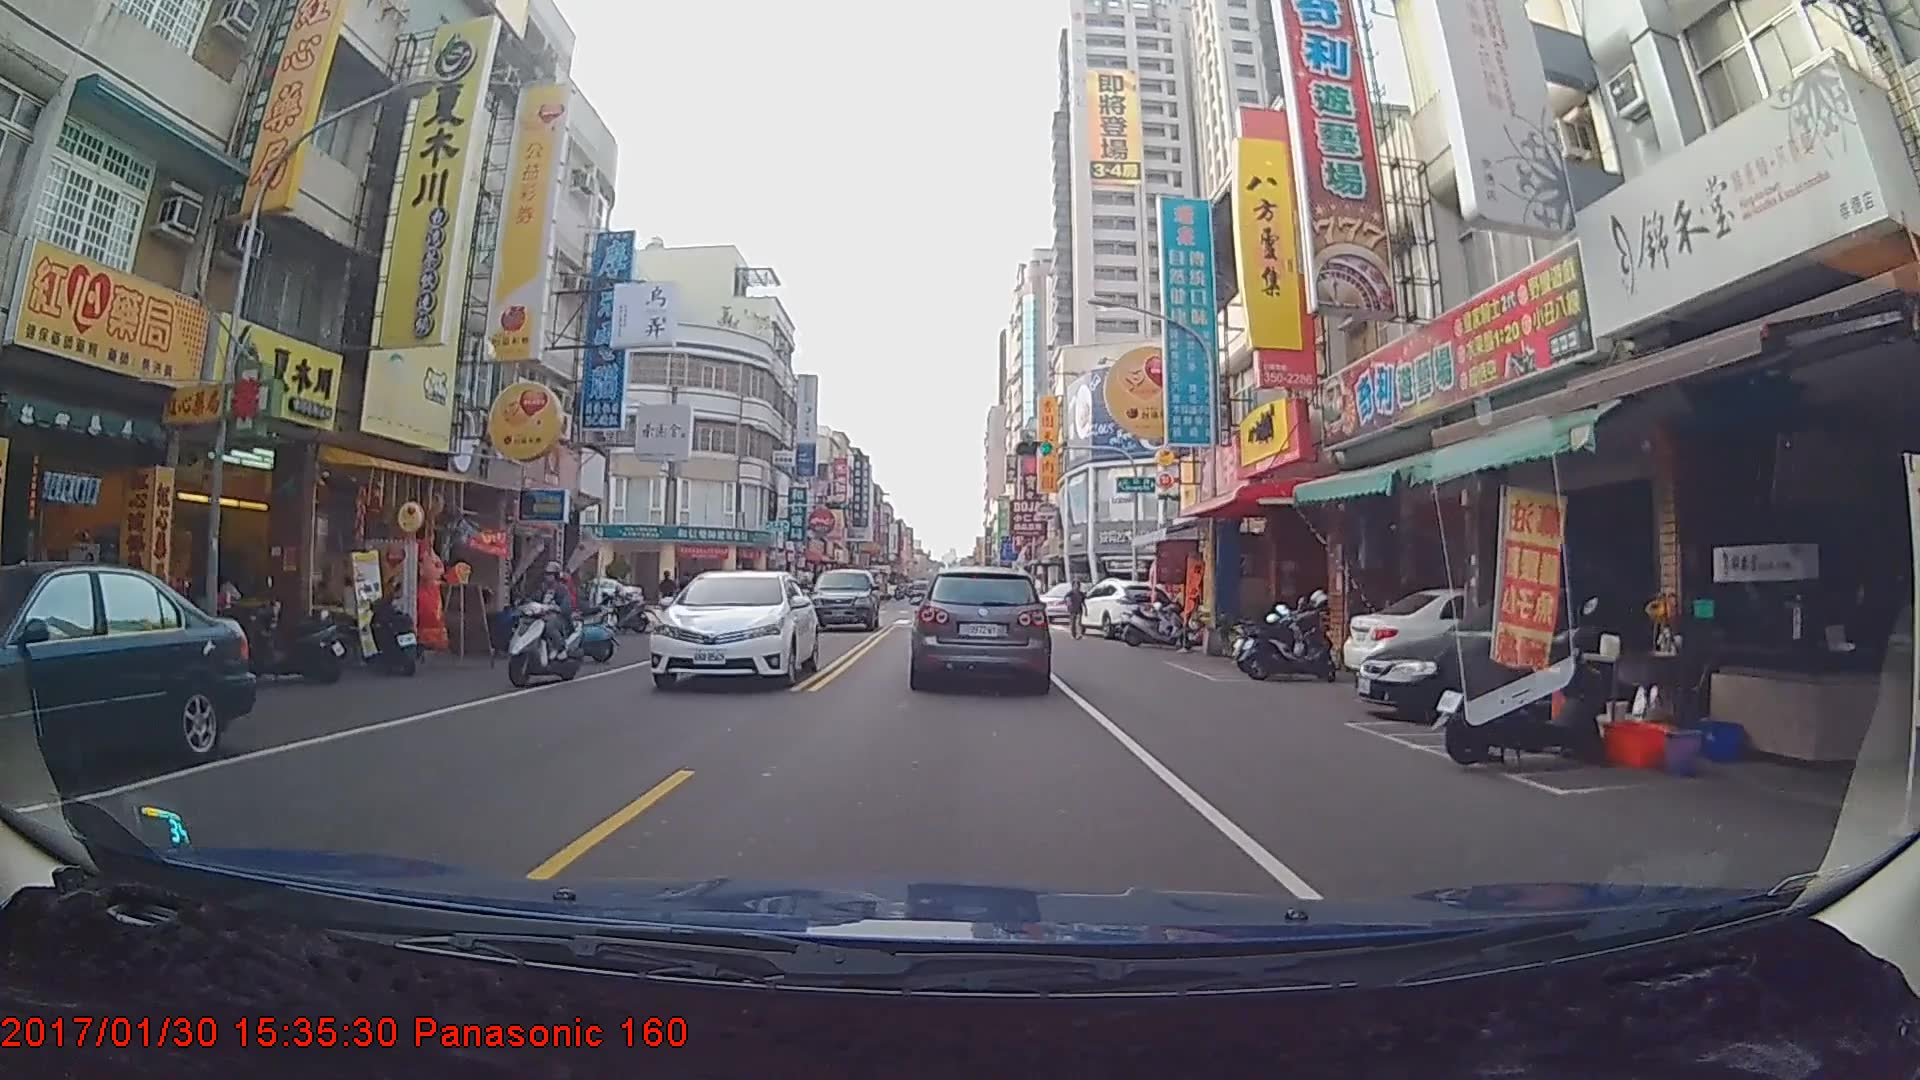pedestrian: (1067, 583, 1088, 644)
rider: (502, 562, 598, 694)
vehicle: (0, 563, 254, 783), (646, 569, 818, 693), (911, 564, 1049, 688), (1074, 577, 1176, 639), (805, 568, 881, 634)
